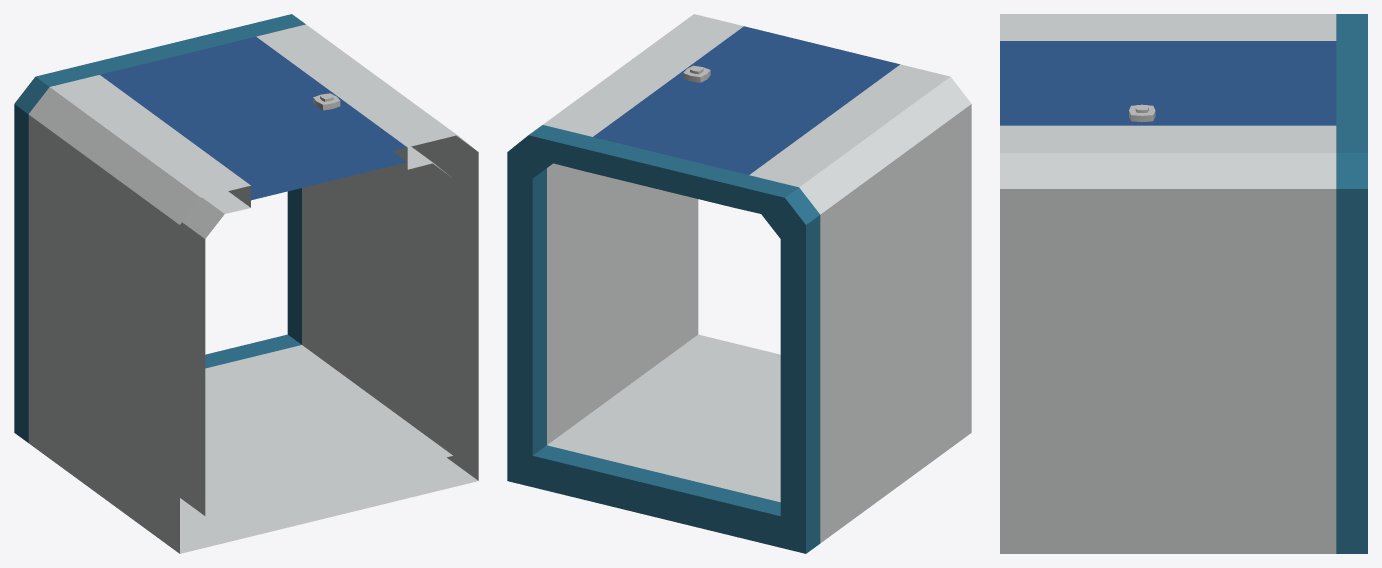
The model's file is Toilet Cubicle 01.FBX.
3 renders of one model, left to right at view 1: azimuth 30°, elevation 25°; view 2: azimuth 150°, elevation 25°; view 3: azimuth 270°, elevation 25°, orthographic. The views are drawn at different scales.
Parts seen in each view (by area): view 1: Toilet Cubicle 01, Toilet Cubicle 01 Door; view 2: Toilet Cubicle 01, Toilet Cubicle 01 Door; view 3: Toilet Cubicle 01, Toilet Cubicle 01 Door.
Boxes of the visible parts, bbox=[...] form: Toilet Cubicle 01: bbox=[14, 14, 478, 553]; Toilet Cubicle 01 Door: bbox=[100, 36, 406, 200]; Toilet Cubicle 01: bbox=[507, 14, 971, 553]; Toilet Cubicle 01 Door: bbox=[593, 26, 899, 174]; Toilet Cubicle 01: bbox=[1000, 14, 1367, 553]; Toilet Cubicle 01 Door: bbox=[1000, 41, 1336, 125].
Size of the model in its own units: 250 by 287 by 240.
Materials: 1 (1 with a texture image).
